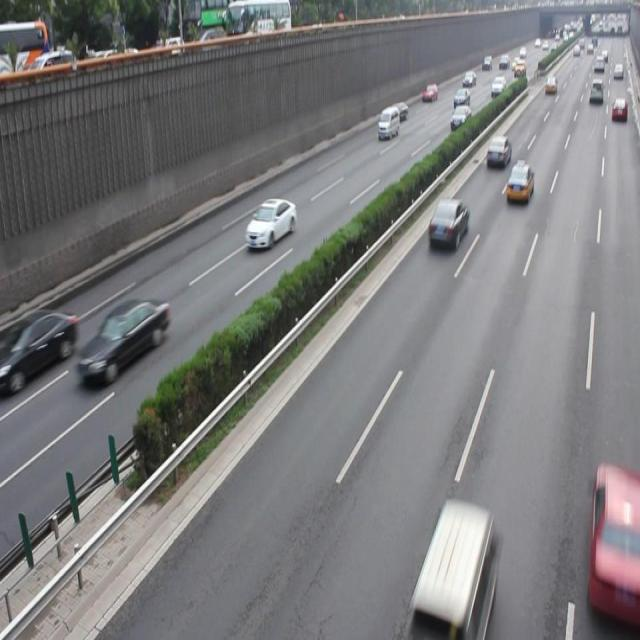car: (586, 467, 640, 634), (76, 296, 169, 388), (1, 308, 76, 392), (244, 195, 297, 252), (427, 198, 468, 250), (504, 164, 534, 206)
truck: (405, 505, 497, 640)
